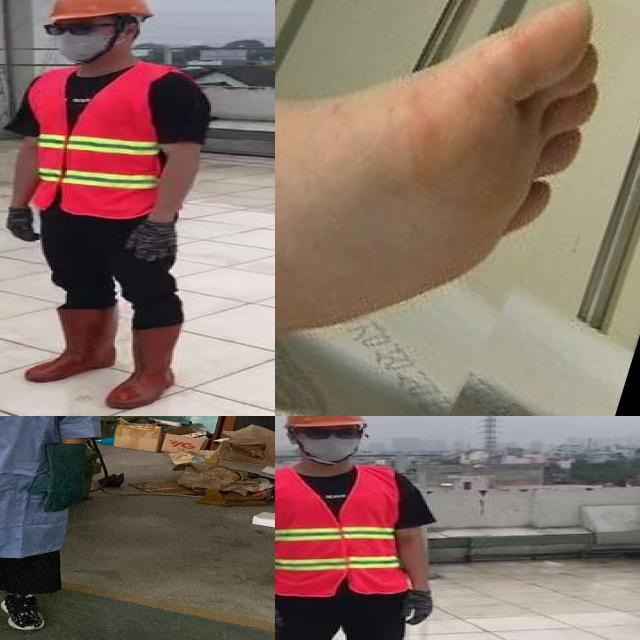Barefoots: (275, 0, 626, 375)
boots: (22, 307, 120, 383), (108, 322, 182, 411)
face_mask: (42, 16, 120, 63), (297, 424, 361, 460)
glasses: (39, 17, 113, 40), (297, 426, 361, 441)
hand_glove: (22, 469, 90, 515), (122, 219, 179, 262), (5, 204, 46, 242), (402, 590, 432, 623)
head_helmet: (38, 0, 157, 21), (281, 416, 366, 429)
person: (0, 0, 216, 410), (275, 416, 446, 640), (0, 416, 109, 639)
shoes: (0, 589, 48, 633)
vest: (22, 66, 196, 220), (275, 467, 407, 595)
